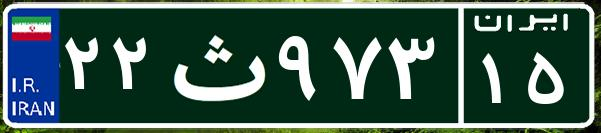1: (475, 38, 525, 113)
2: (57, 26, 110, 107), (110, 28, 158, 105)
3: (385, 28, 445, 110)
5: (525, 38, 570, 115)
7: (330, 28, 385, 110)
9: (273, 28, 330, 110)
ث: (158, 15, 273, 115)
